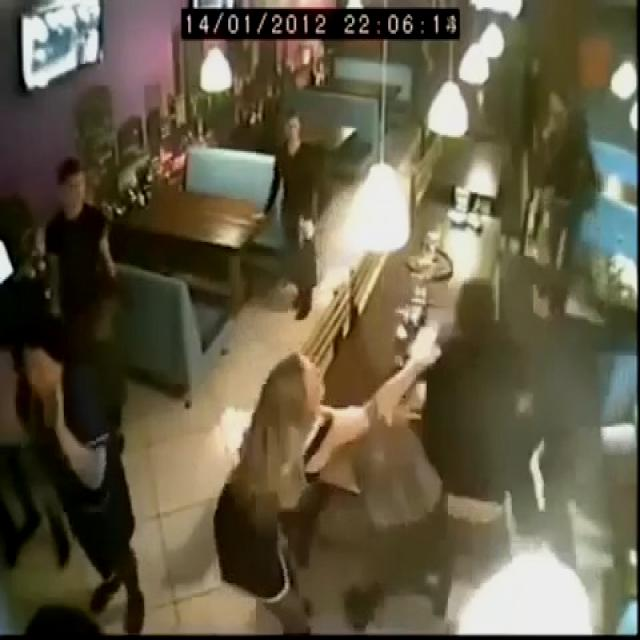fight: (215, 276, 530, 631)
